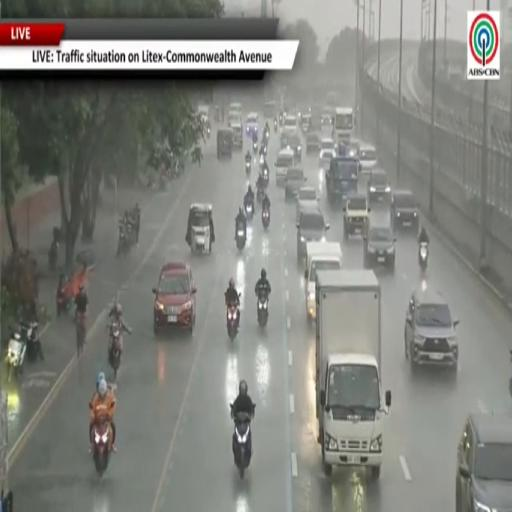bus: (333, 107, 354, 140)
car: (456, 412, 511, 511), (405, 287, 458, 372), (153, 263, 196, 334), (296, 206, 329, 262), (364, 222, 396, 270), (343, 195, 370, 238), (391, 190, 419, 231), (367, 168, 391, 206), (296, 186, 318, 221), (285, 167, 306, 200), (276, 149, 295, 185), (358, 144, 377, 174), (288, 134, 302, 162), (245, 112, 258, 137), (231, 123, 242, 149), (282, 115, 297, 134), (306, 134, 320, 154), (319, 150, 333, 170), (227, 111, 242, 126), (348, 139, 360, 157), (300, 114, 311, 133), (321, 138, 335, 151), (321, 114, 332, 129), (280, 134, 289, 149)
motorcycle: (230, 404, 253, 478), (93, 418, 112, 476), (5, 329, 26, 381), (20, 320, 40, 360), (109, 323, 121, 380), (56, 279, 74, 316), (117, 221, 136, 255), (227, 303, 239, 341), (75, 312, 86, 353), (258, 293, 268, 327), (48, 238, 58, 271), (117, 227, 127, 255), (419, 243, 428, 270), (236, 227, 246, 250), (245, 201, 254, 220), (262, 208, 269, 230), (262, 168, 269, 188), (257, 187, 264, 204), (159, 173, 166, 190), (260, 144, 267, 158), (259, 155, 264, 168), (264, 130, 269, 141), (253, 142, 257, 154), (246, 162, 250, 174), (207, 126, 211, 138), (279, 115, 283, 125), (274, 120, 277, 133)
truck: (316, 269, 391, 478), (304, 242, 342, 322), (325, 156, 359, 205)
